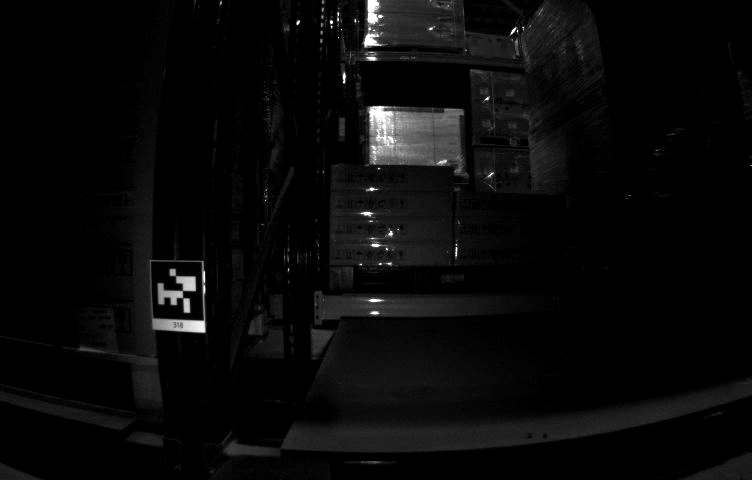True Barcode: (76, 304, 115, 351)
